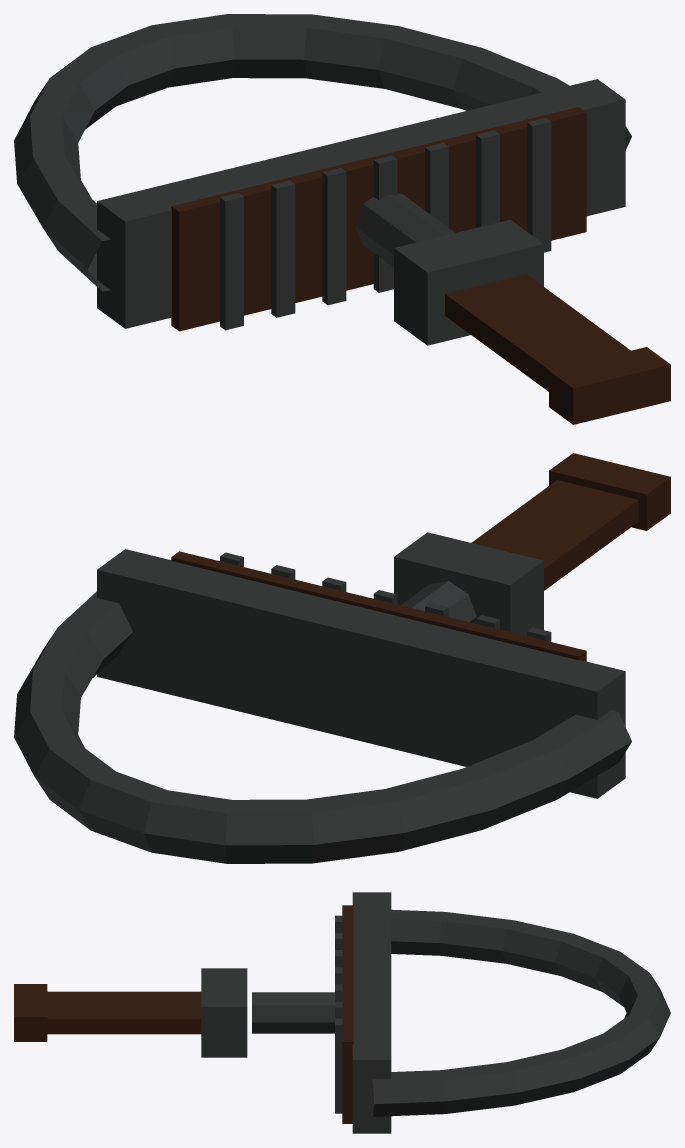
File: stirrup_LOD1.obj
3 views of the same model, one above another, from view 1: azimuth 30°, elevation 25°; view 2: azimuth 150°, elevation 25°; view 3: azimuth 270°, elevation 25° (orthographic). The views are drawn at different scales.
Visible parts, largest first — view 1: SM_VelegRadStirrup_LOD1; view 2: SM_VelegRadStirrup_LOD1; view 3: SM_VelegRadStirrup_LOD1.
Part boxes in pixels (x1,y1,x2,y2): SM_VelegRadStirrup_LOD1: [14, 14, 670, 424]; SM_VelegRadStirrup_LOD1: [14, 453, 670, 863]; SM_VelegRadStirrup_LOD1: [14, 892, 670, 1133].
Size of the model in its own units: 0.2339 by 0.053 by 0.356.
